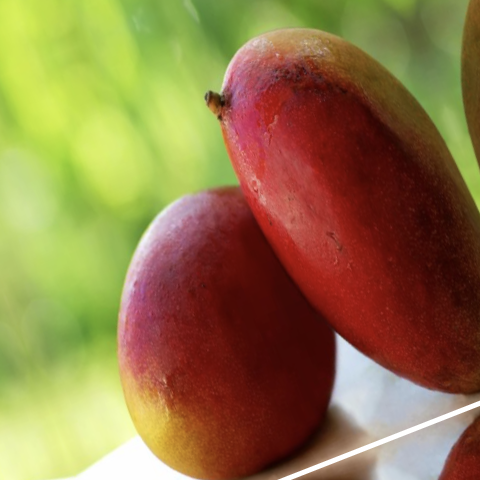mango: (164, 0, 480, 466), (41, 148, 406, 480)
